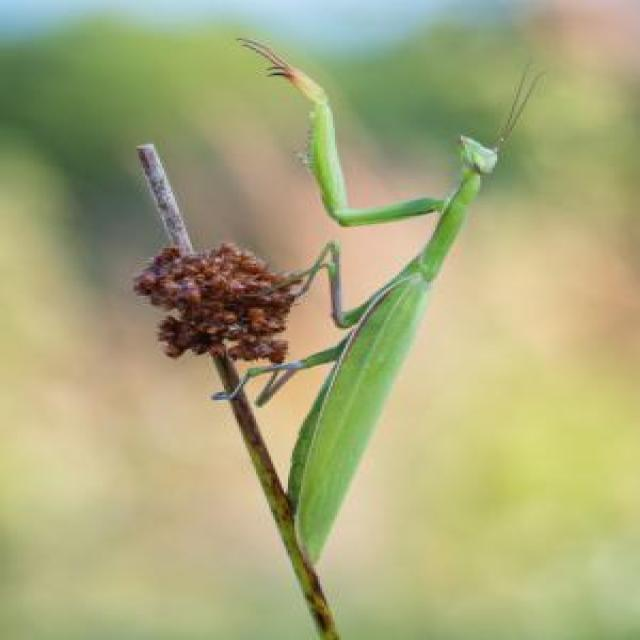antennae: (496, 73, 547, 144), (498, 56, 531, 143)
body: (288, 137, 504, 523)
insect: (220, 28, 592, 560)
legs: (235, 32, 449, 224), (270, 232, 384, 327), (216, 341, 352, 404), (280, 260, 380, 326), (259, 353, 338, 405)
mouthpart: (454, 132, 471, 149)
wings: (293, 275, 433, 552)
